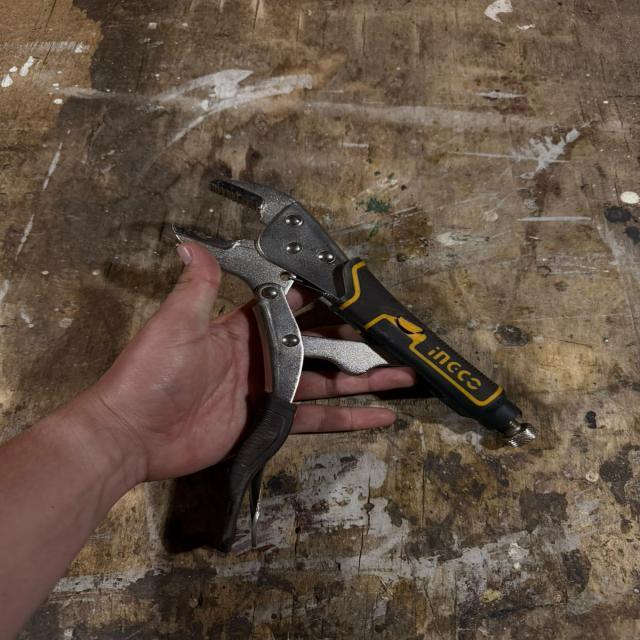PinzasPresion: (93, 122, 536, 572)
